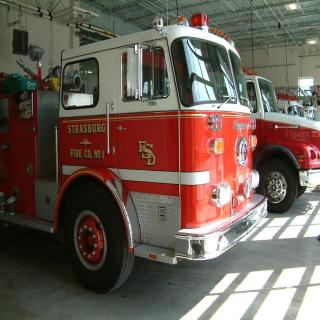Fire_truck: (0, 10, 268, 294)
